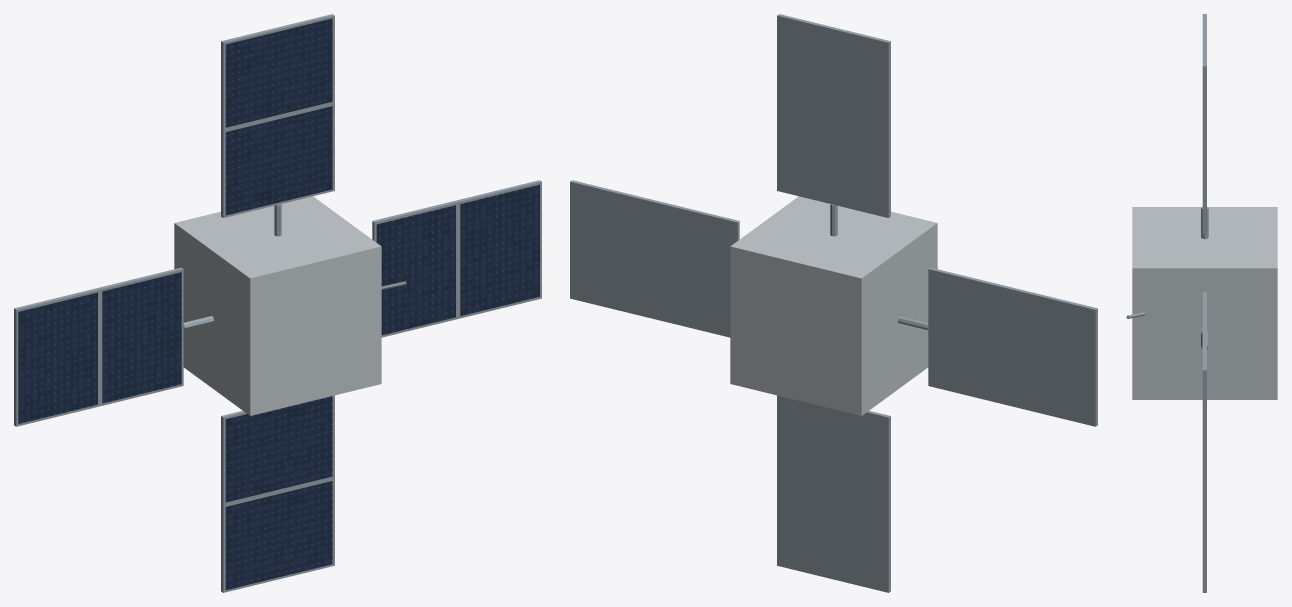
File: ref-egyptsat-31117.glb
3 views of the same model, side by side, from view 1: azimuth 30°, elevation 25°; view 2: azimuth 150°, elevation 25°; view 3: azimuth 270°, elevation 25° (orthographic). The views are drawn at different scales.
Visible parts, largest first — view 1: Photovoltaic laminates (×8), Spacecraft body, Array frame (×8); view 2: Array frame (×8), Spacecraft body; view 3: Spacecraft body, Array frame (×4).
Part boxes in pixels (x1,y1,x2,y2): Photovoltaic laminates (×8): [18, 18, 539, 589]; Spacecraft body: [174, 196, 381, 415]; Array frame (×8): [14, 14, 541, 592]; Array frame (×8): [570, 14, 1097, 592]; Spacecraft body: [730, 196, 937, 415]; Spacecraft body: [1132, 207, 1277, 399]; Array frame (×4): [1202, 14, 1206, 592].
Size of the model in its own units: 2 by 2 by 0.5199.
Materials: 3 (1 with a texture image).
